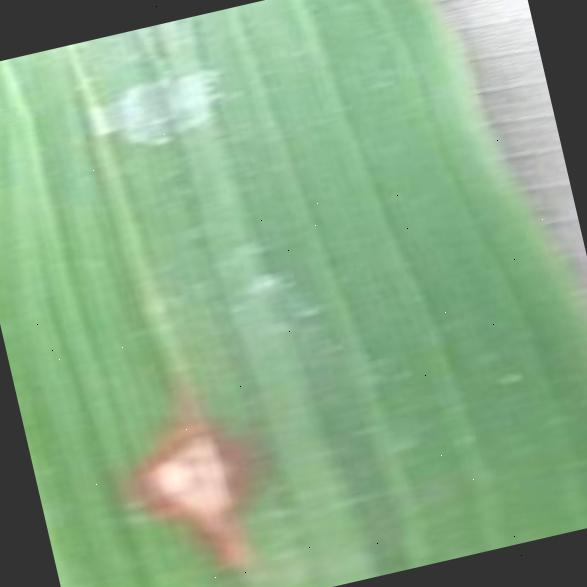Leaf_smut: (85, 350, 306, 580)
